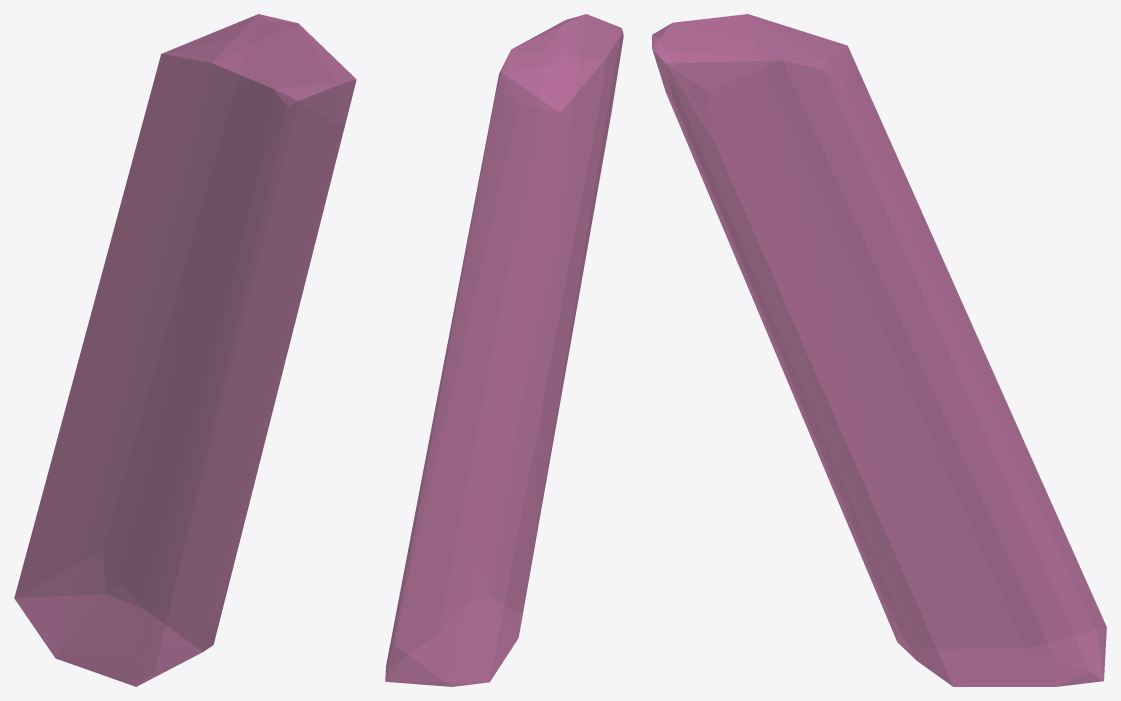
3 views of the same model, side by side, from view 1: azimuth 30°, elevation 25°; view 2: azimuth 150°, elevation 25°; view 3: azimuth 270°, elevation 25° (orthographic). The views are drawn at different scales.
Visible parts, largest first — view 1: Shape_IndexedFaceSet.007_Shape_IndexedFaceSet.412; view 2: Shape_IndexedFaceSet.007_Shape_IndexedFaceSet.412; view 3: Shape_IndexedFaceSet.007_Shape_IndexedFaceSet.412.
Boxes of the visible parts, x1,y1,x2,y2 form: Shape_IndexedFaceSet.007_Shape_IndexedFaceSet.412: (14, 14, 356, 686); Shape_IndexedFaceSet.007_Shape_IndexedFaceSet.412: (385, 14, 623, 686); Shape_IndexedFaceSet.007_Shape_IndexedFaceSet.412: (652, 14, 1106, 686).
Bounding box in the file's own units: 0.0589 × 0.3717 × 0.2411.
